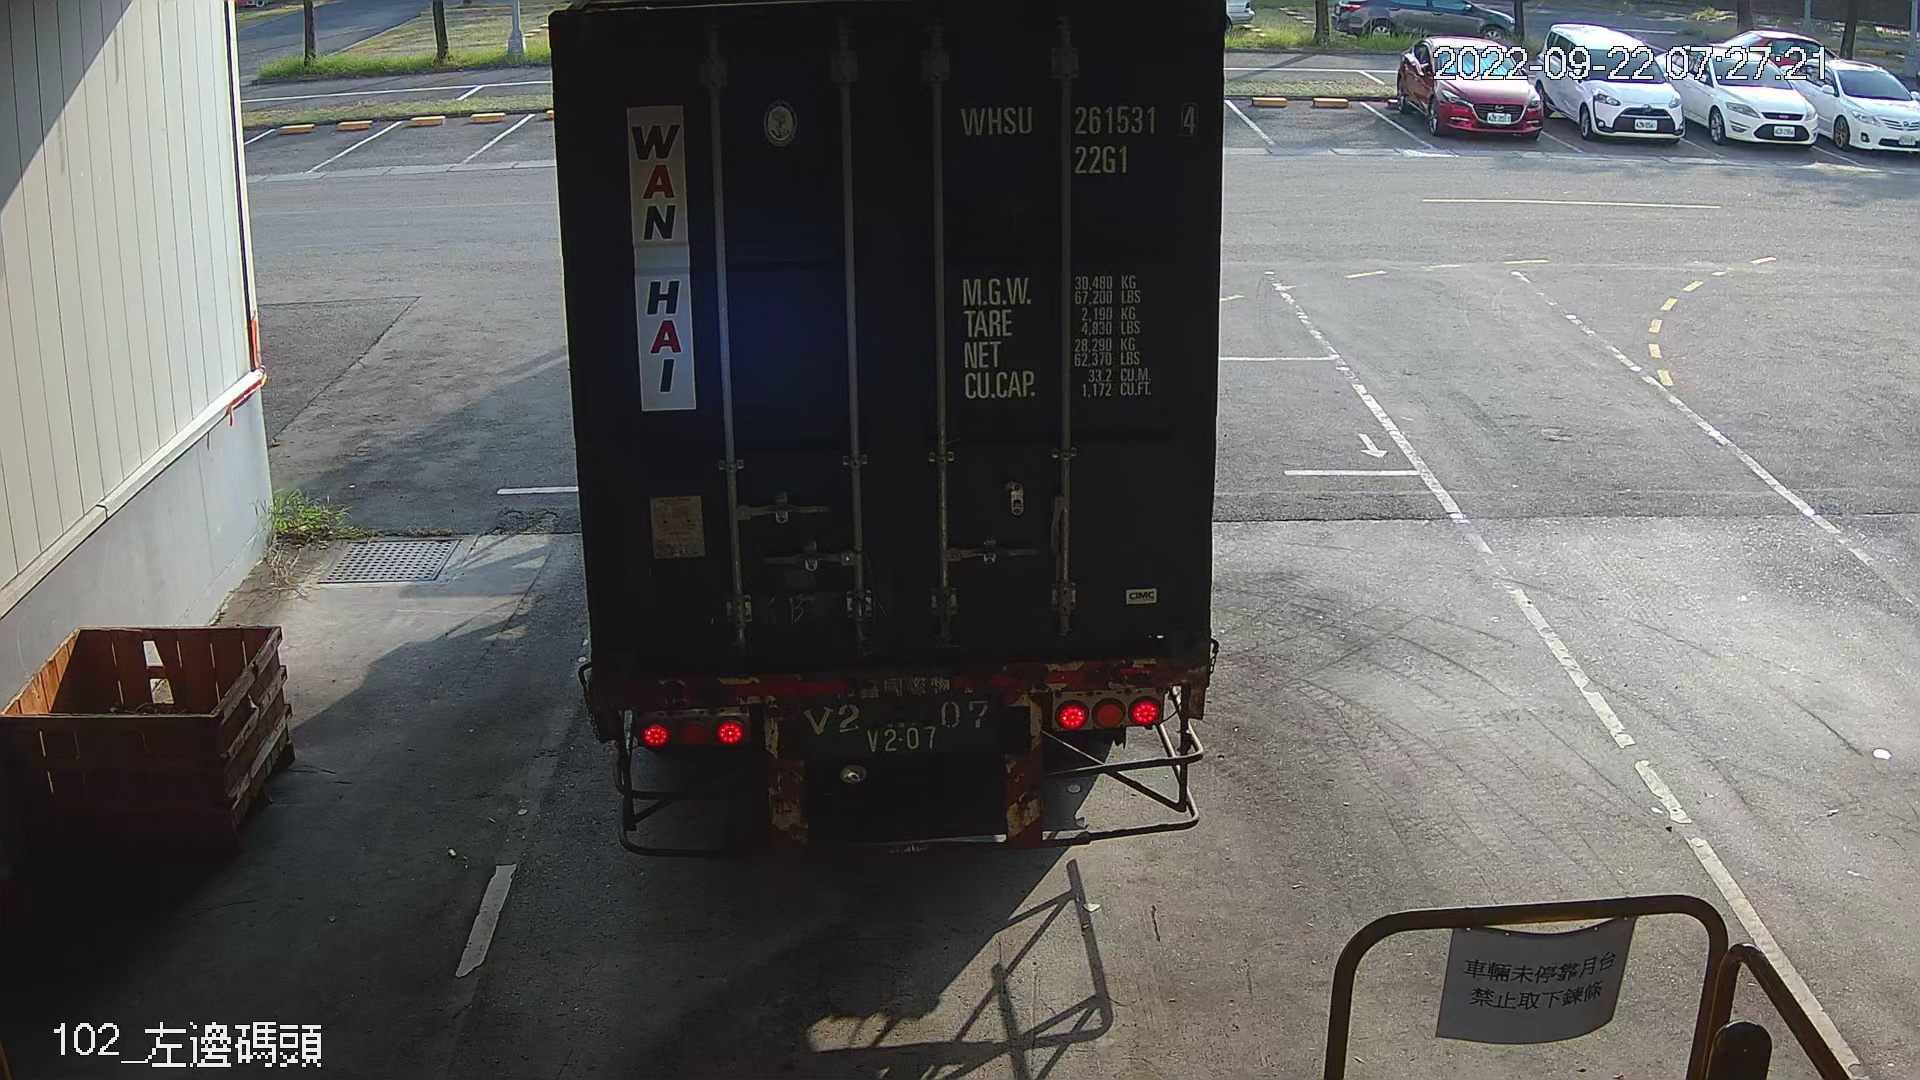container: (953, 94, 1209, 183)
